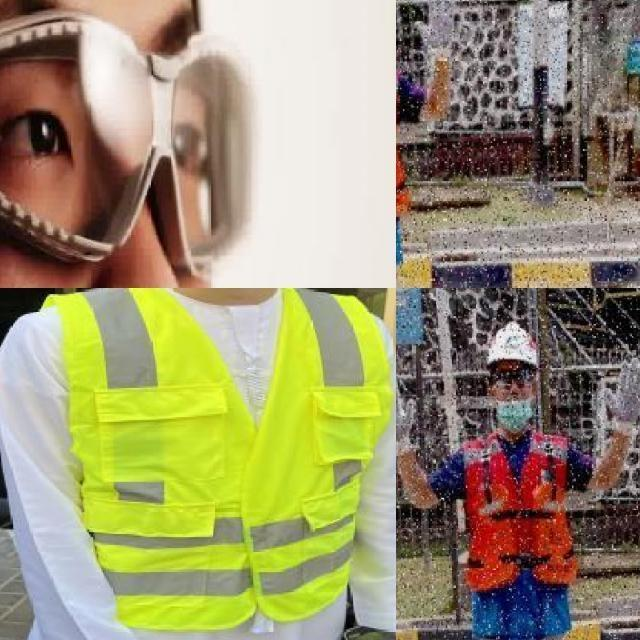apron: (601, 356, 640, 439), (412, 0, 457, 61), (396, 373, 415, 458)
